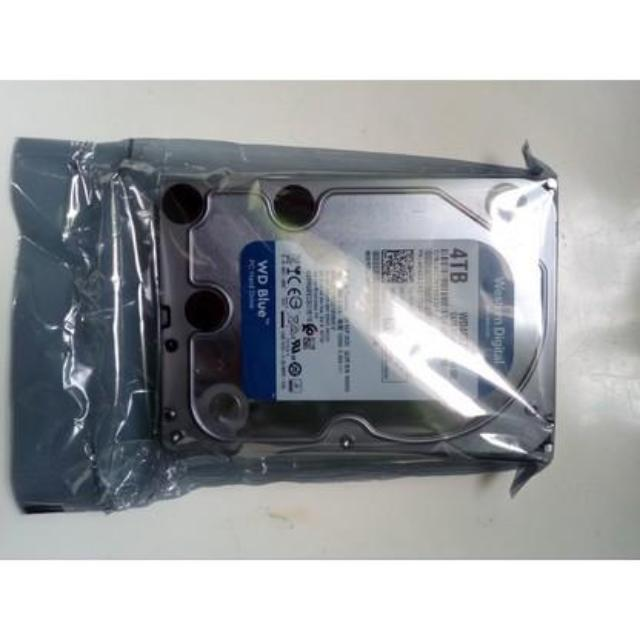DISK: (182, 180, 538, 446)
